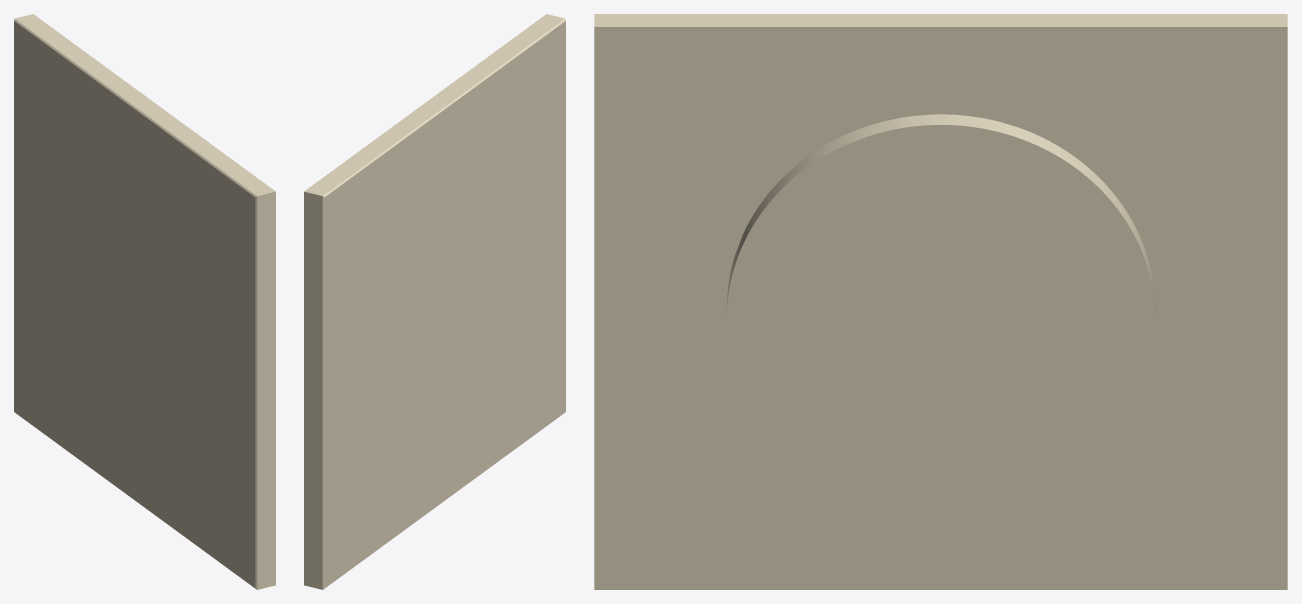
File: takoz-soosan-sb121-ts-p-bottom-buffer-plate-02.glb
3 renders of one model, left to right at view 1: azimuth 30°, elevation 25°; view 2: azimuth 150°, elevation 25°; view 3: azimuth 270°, elevation 25°, orthographic. The views are drawn at different scales.
Parts seen in each view (by area): view 1: body; view 2: body; view 3: body.
Boxes of the visible parts, x1,y1,x2,y2 form: body: [14, 14, 275, 589]; body: [304, 14, 565, 589]; body: [594, 14, 1287, 589].
Size of the model in its own units: 0.028 by 0.3 by 0.335.
